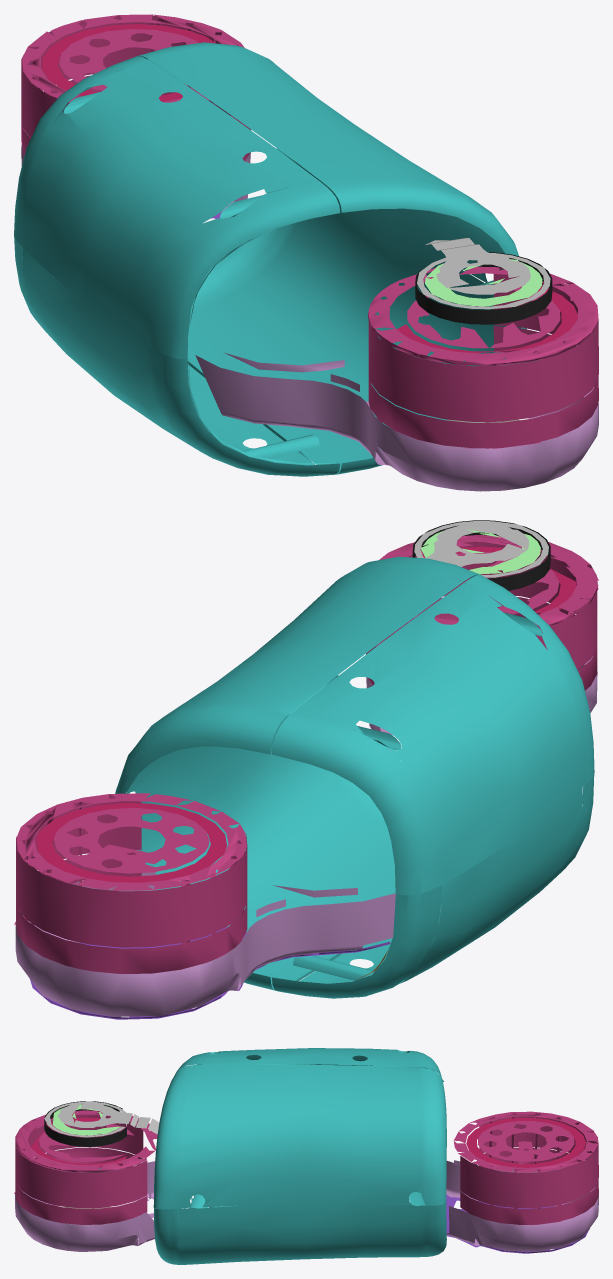
Rendered from sim_icub3_l_lower_leg.obj.
3 views of the same model, one above another, from view 1: azimuth 30°, elevation 25°; view 2: azimuth 150°, elevation 25°; view 3: azimuth 270°, elevation 25° (orthographic). The views are drawn at different scales.
Size of the model in its own units: 137 by 117 by 342.
